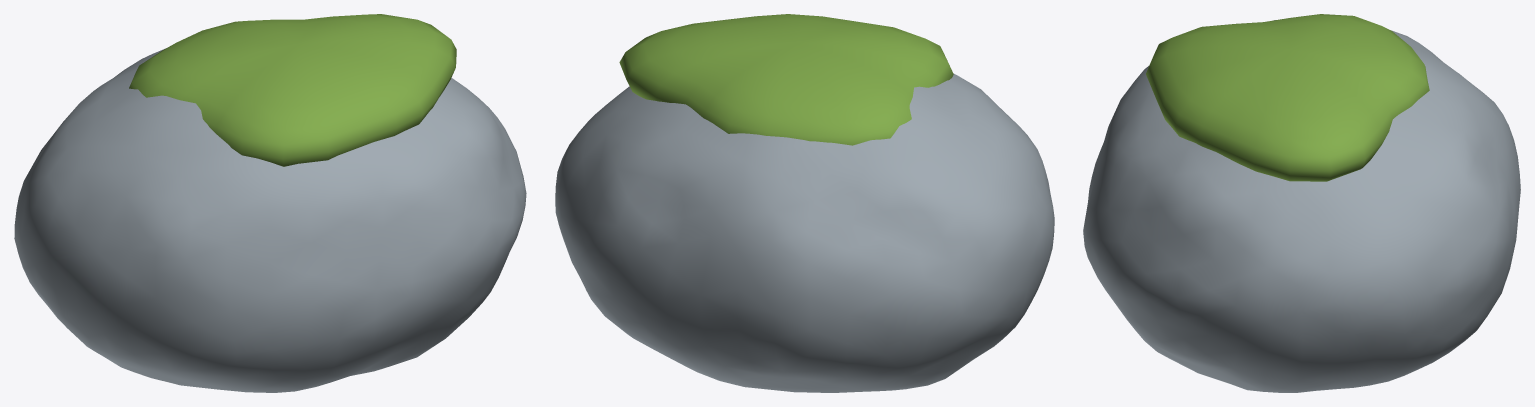
Rendered from boulder.glb.
3 views of the same model, side by side, from view 1: azimuth 30°, elevation 25°; view 2: azimuth 150°, elevation 25°; view 3: azimuth 270°, elevation 25° (orthographic).
Visible parts, largest first — view 1: Rock_Body, Rock_Moss; view 2: Rock_Body, Rock_Moss; view 3: Rock_Body, Rock_Moss.
Boxes of the visible parts, x1,y1,x2,y2 form: Rock_Body: (14, 48, 526, 392); Rock_Moss: (129, 14, 456, 166); Rock_Body: (555, 73, 1054, 392); Rock_Moss: (619, 14, 953, 145); Rock_Body: (1083, 20, 1520, 392); Rock_Moss: (1146, 14, 1429, 181).
Bounding box in the file's own units: 0.8721 × 0.596 × 0.7393.
